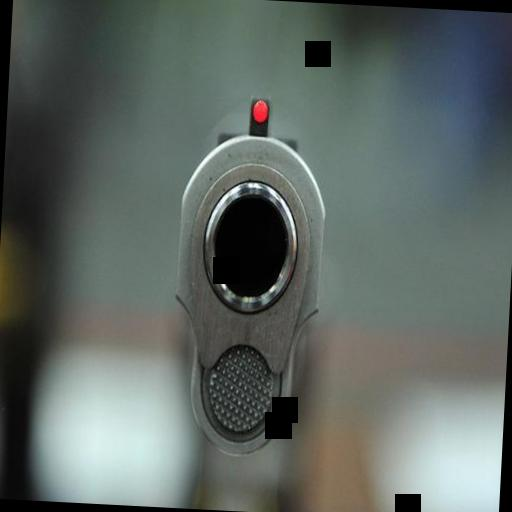Handgun: (157, 56, 340, 512)
